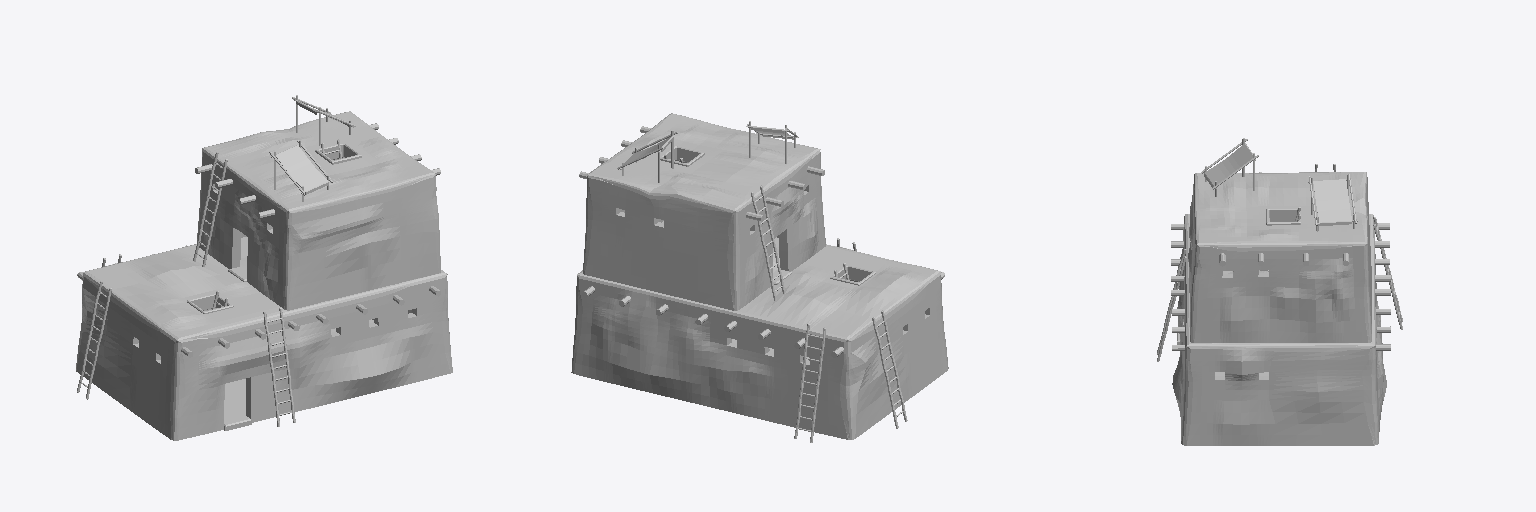
The model's file is midpoly_turkish_house_006.obj.
3 views of the same model, side by side, from view 1: azimuth 30°, elevation 25°; view 2: azimuth 150°, elevation 25°; view 3: azimuth 270°, elevation 25° (orthographic).
Parts seen in each view (by area): view 1: Cube.109, Cube.110, Plane.009, Cube.168, Cube.001, Cube.170, Cube.187, Cube.127; view 2: Cube.109, Cube.110, Cube.169, Cube.170, Cube.187; view 3: Cube.110, Cube.109, Plane.010, Plane.009, Cube.127.
Boxes of the visible parts, x1,y1,x2,y2 form: Cube.109: [76, 237, 452, 440]; Cube.110: [197, 111, 440, 310]; Plane.009: [276, 145, 328, 194]; Cube.168: [263, 308, 295, 426]; Cube.001: [224, 319, 373, 418]; Cube.170: [77, 281, 111, 399]; Cube.187: [193, 152, 227, 266]; Cube.127: [315, 143, 361, 164]; Cube.109: [571, 221, 948, 439]; Cube.110: [583, 113, 825, 310]; Cube.169: [794, 324, 825, 442]; Cube.170: [872, 310, 907, 428]; Cube.187: [751, 185, 785, 300]; Cube.110: [1188, 172, 1371, 342]; Cube.109: [1172, 214, 1386, 445]; Plane.010: [1313, 179, 1351, 225]; Plane.009: [1204, 143, 1252, 187]; Cube.127: [1266, 208, 1300, 225].
Size of the model in its own units: 7.17 by 5.21 by 4.95.